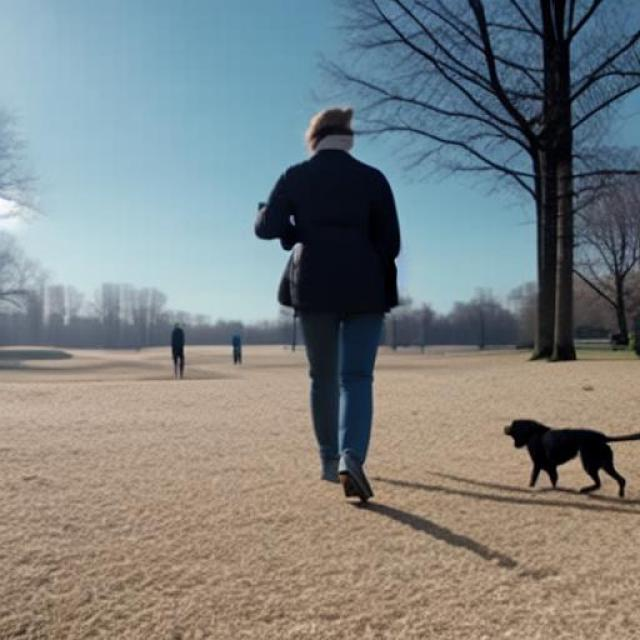Unleashed_Dog: (305, 278, 640, 500)
